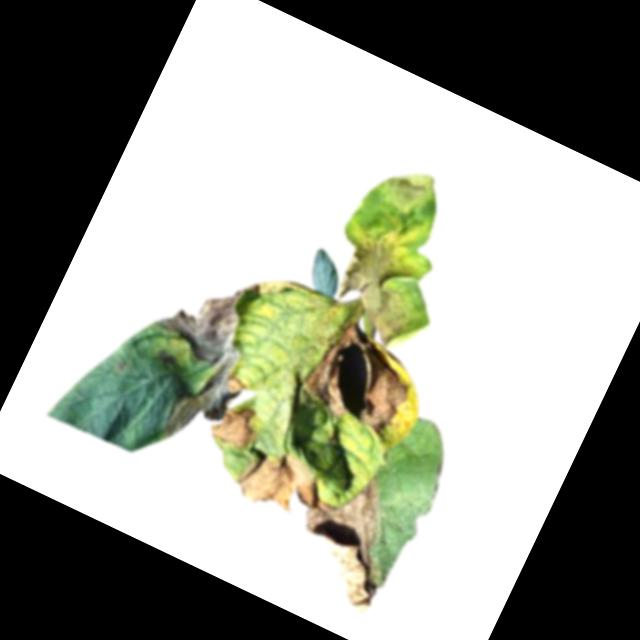Late_blight: (274, 455, 422, 616), (294, 313, 426, 443), (319, 221, 438, 353), (159, 336, 257, 457), (150, 260, 257, 369), (231, 437, 346, 534), (366, 153, 441, 226), (203, 394, 267, 457)
